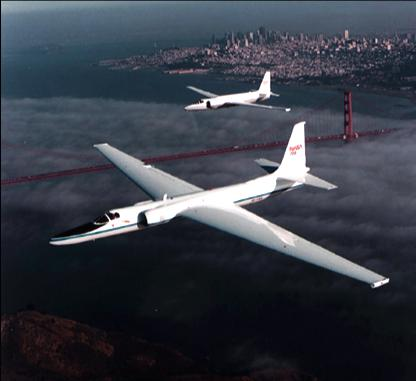Tu160: (47, 120, 390, 288), (182, 70, 290, 110)
